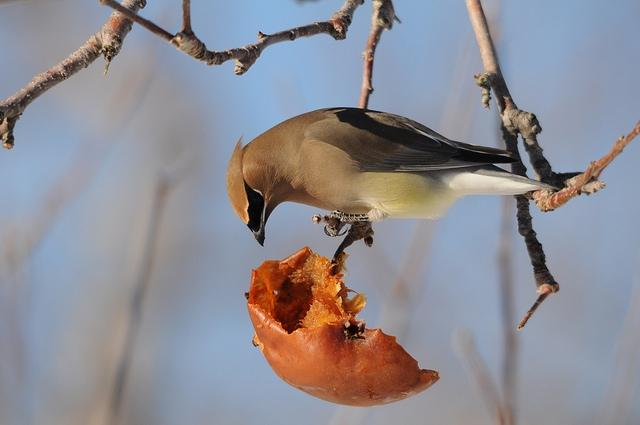apple: (246, 226, 440, 407)
